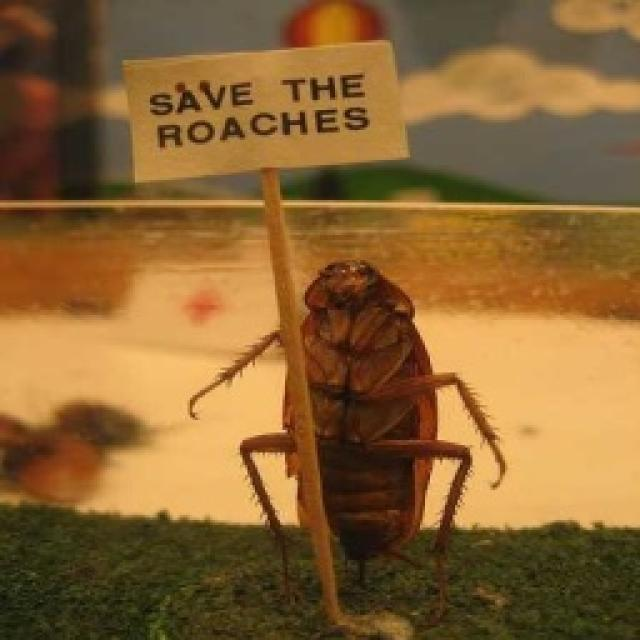cockroach: (279, 257, 442, 554)
